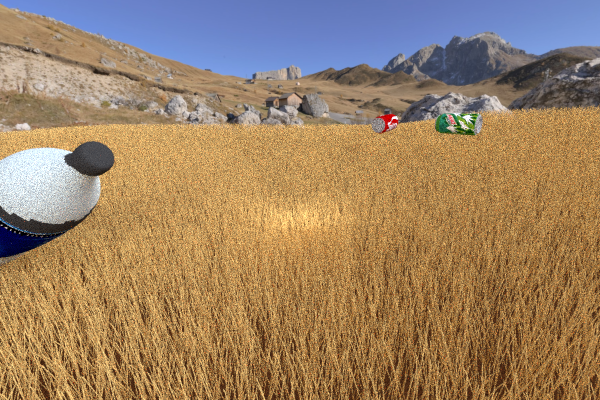Plastic Bottle: (0, 141, 114, 273), (434, 113, 482, 135), (371, 113, 398, 133)
